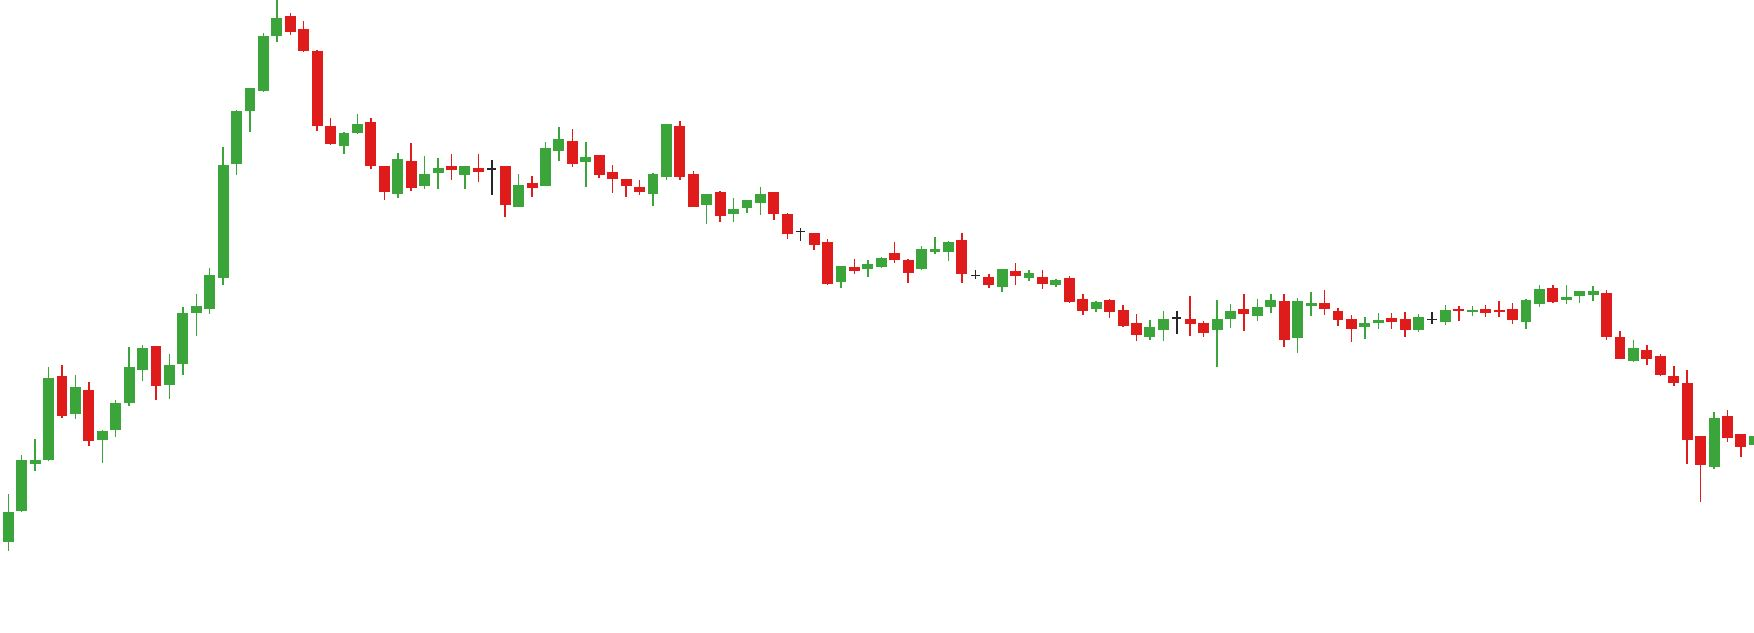sell: (551, 121, 686, 191)
